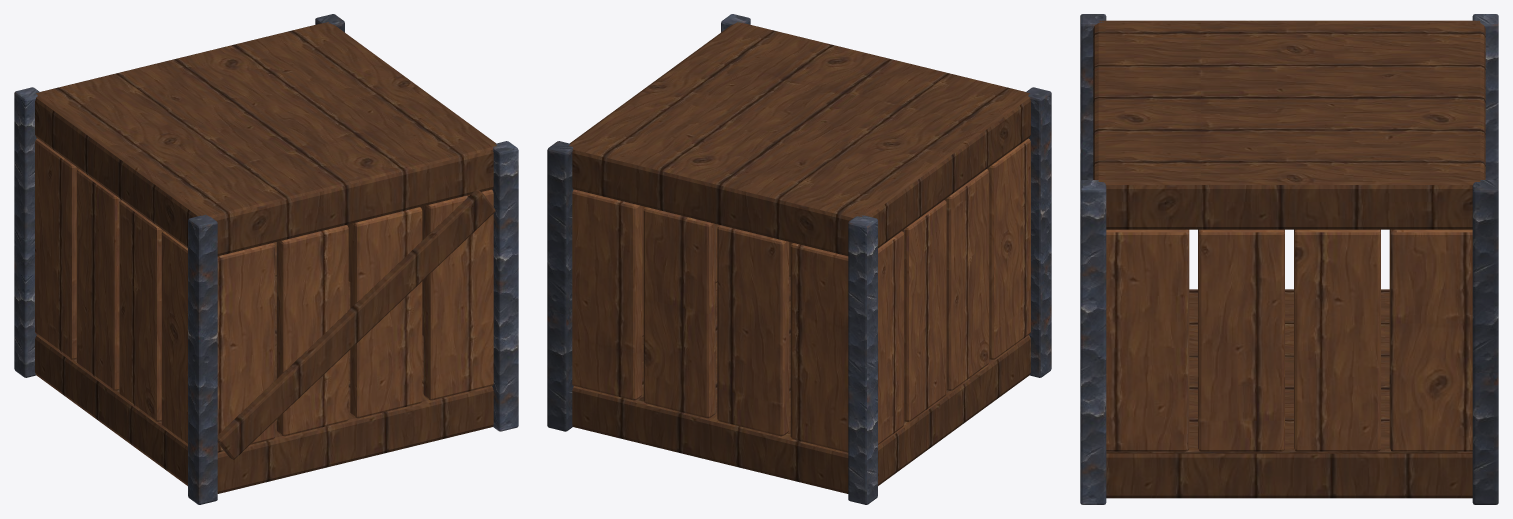
Rendered from crate__plank_root.glb.
3 renders of one model, left to right at view 1: azimuth 30°, elevation 25°; view 2: azimuth 150°, elevation 25°; view 3: azimuth 270°, elevation 25°, orthographic. The views are drawn at different scales.
Visible parts, largest first — view 1: model; view 2: model; view 3: model.
Boxes of the visible parts, <box> form: model: <box>14,14,518,504</box>; model: <box>547,14,1051,504</box>; model: <box>1080,14,1498,504</box>.
Size of the model in its own units: 0.96 by 0.8 by 0.96.
5 materials, 5 textured.
